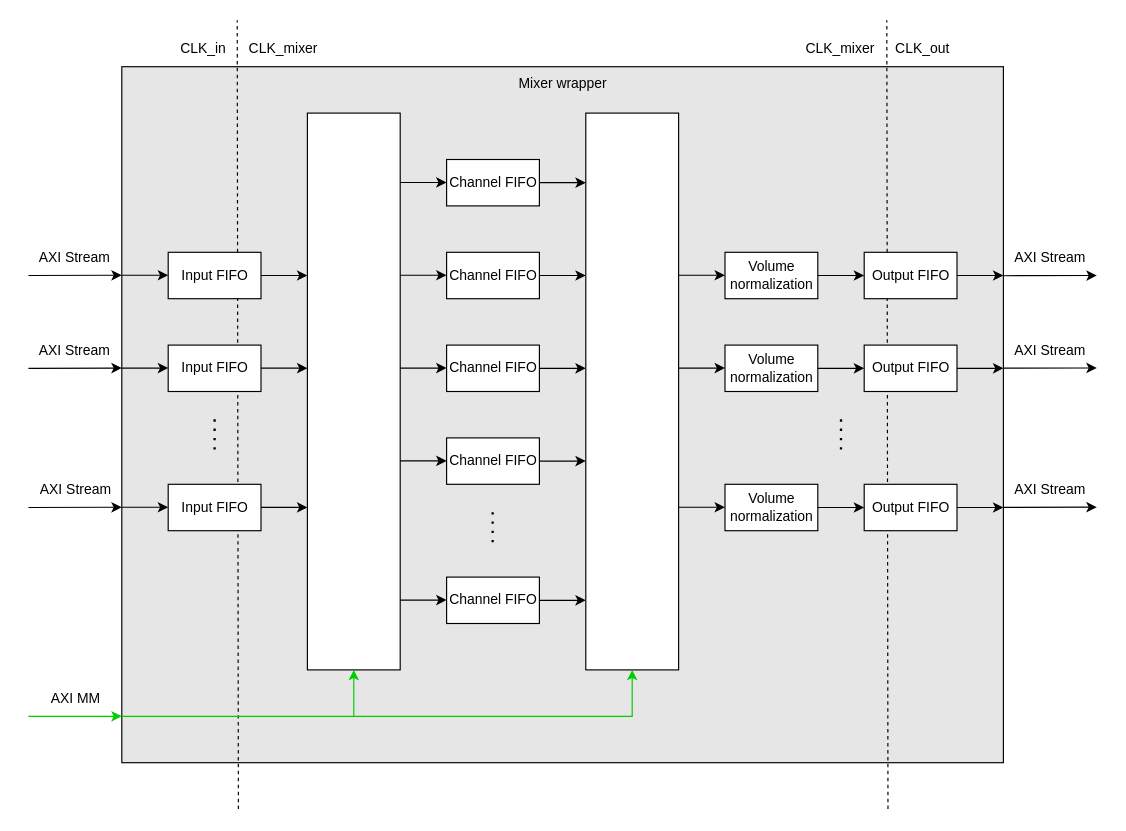
Some shapes in this 1126 by 831 pixel diagram are drawn without their labels. The shapes that lost their labels are listed below. From the top down, each one's centre as x and y in pixels, then its label:
At point 353,391: "Channel splitter".
At point 632,391: "Channel mapper".
